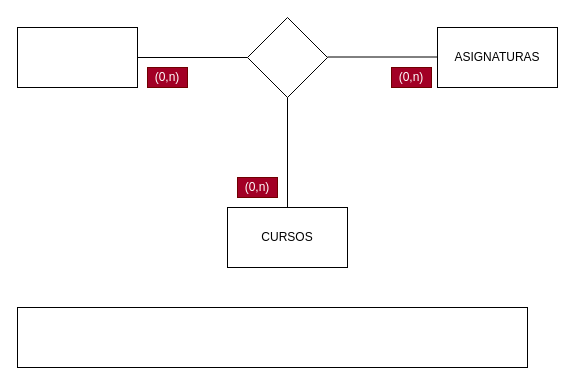
This 575x385 diagram has some shape labels left out. Here are the shapes that lost their labels. From the top down, the centre of each, then its label:
At [77,57]: "PROFESORES".
At [287,57]: "Imparte".
At [272,337]: "La cardinalidad mínima siempre es cero".
